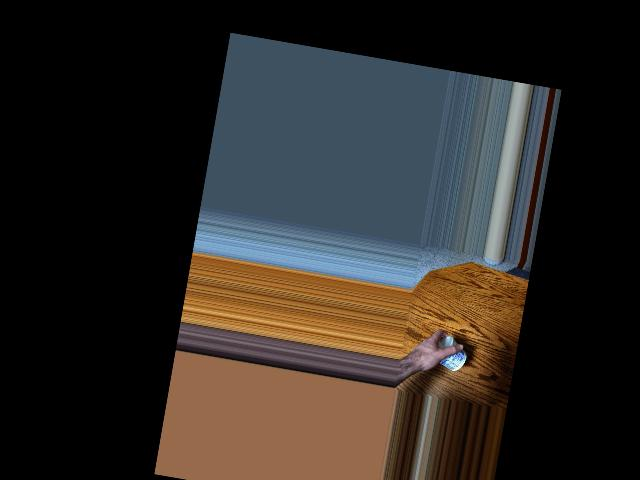cotage: (433, 333, 470, 376)
